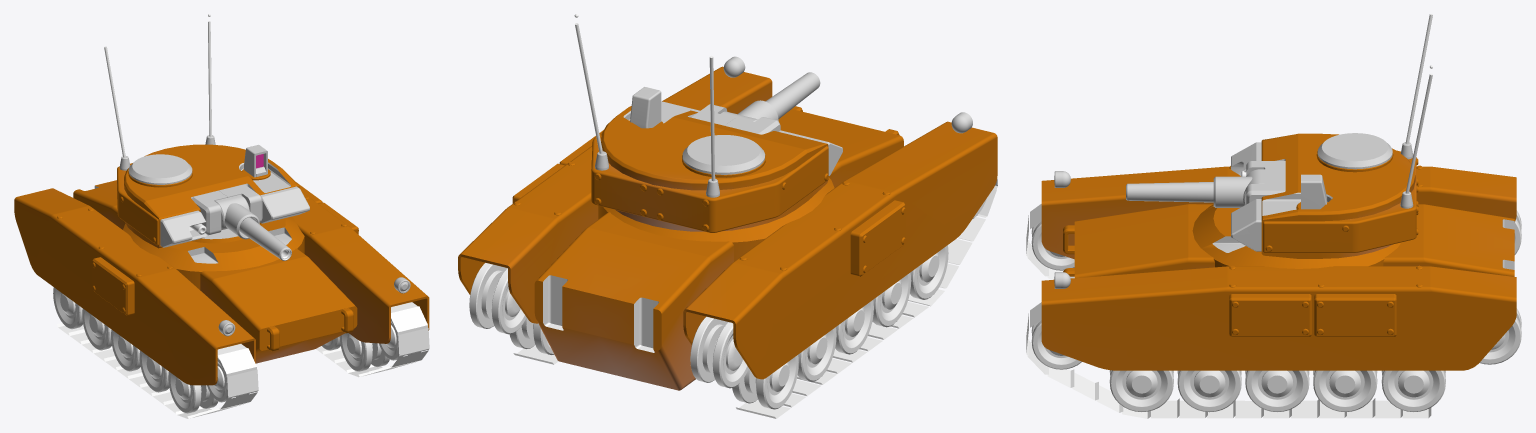
The model's file is light-tank2-export.fbx.
The picture shows the model from 3 angles, left to right: view 1: azimuth 30°, elevation 25°; view 2: azimuth 150°, elevation 25°; view 3: azimuth 270°, elevation 25°; orthographic projection. The views are drawn at different scales.
Parts seen in each view (by area): view 1: Cube.002; view 2: Cube.002; view 3: Cube.002.
Boxes of the visible parts, left/top/right/bottom form: Cube.002: left=14, top=14, right=429, bottom=418; Cube.002: left=458, top=14, right=997, bottom=418; Cube.002: left=1026, top=14, right=1521, bottom=418.
Size of the model in its own units: 60.51 by 67.82 by 93.57.
